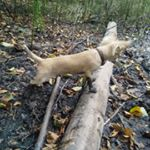puppy: (17, 36, 127, 97)
